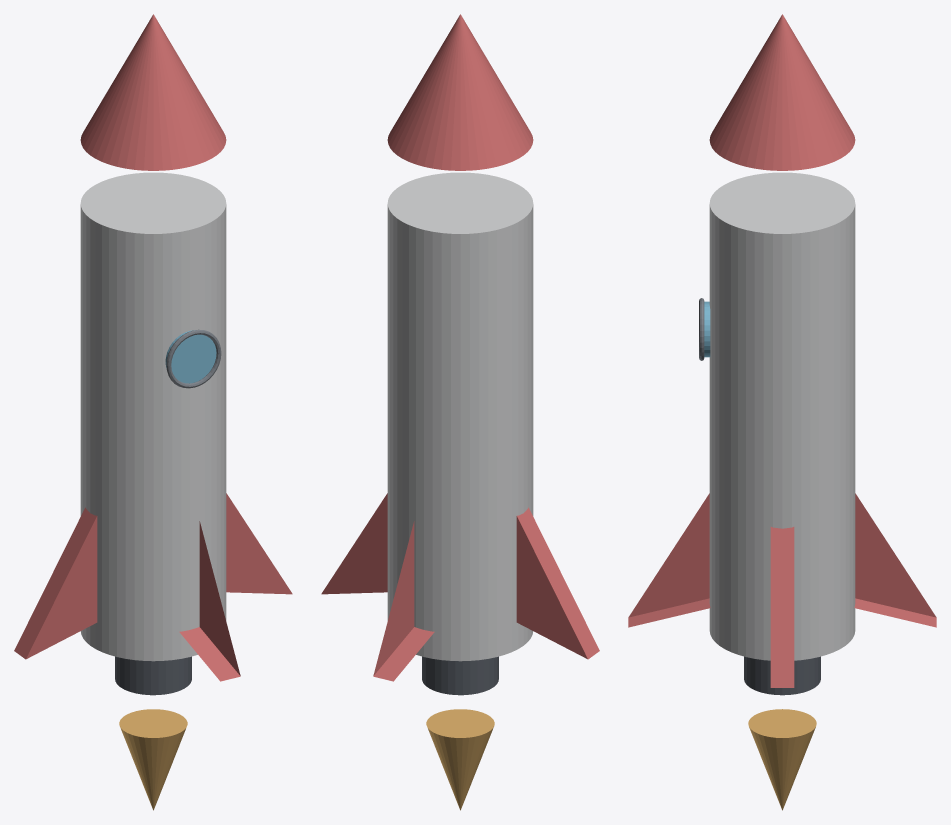
Rendered from simple_rocket.glb.
The picture shows the model from 3 angles, left to right: view 1: azimuth 30°, elevation 25°; view 2: azimuth 150°, elevation 25°; view 3: azimuth 270°, elevation 25°; orthographic projection.
Visible parts, largest first — view 1: body, nose_cone, fin_left, flame, fin_front, fin_right, engine_nozzle, window, window_rim; view 2: body, nose_cone, fin_left, flame, fin_back, fin_right, engine_nozzle; view 3: body, nose_cone, fin_front, fin_back, fin_right, flame, engine_nozzle.
Part boxes in pixels (box(x1,y1,x2,y2)): body: box(80, 172, 226, 661); nose_cone: box(80, 14, 226, 170); fin_left: box(14, 507, 97, 659); flame: box(119, 709, 187, 810); fin_front: box(179, 521, 240, 681); fin_right: box(226, 493, 292, 594); engine_nozzle: box(115, 656, 191, 695); window: box(165, 330, 216, 383); window_rim: box(166, 329, 221, 388); body: box(387, 172, 533, 661); nose_cone: box(387, 14, 533, 170); fin_left: box(516, 507, 599, 659); flame: box(426, 709, 494, 810); fin_back: box(373, 521, 434, 681); fin_right: box(321, 493, 387, 594); engine_nozzle: box(422, 656, 498, 695); body: box(709, 172, 855, 660); nose_cone: box(709, 14, 855, 170); fin_front: box(628, 493, 710, 627); fin_back: box(854, 493, 936, 627); fin_right: box(770, 527, 794, 687); flame: box(748, 709, 816, 810); engine_nozzle: box(744, 656, 820, 695).
Size of the model in its own units: 1.44 by 4.11 by 1.44.
